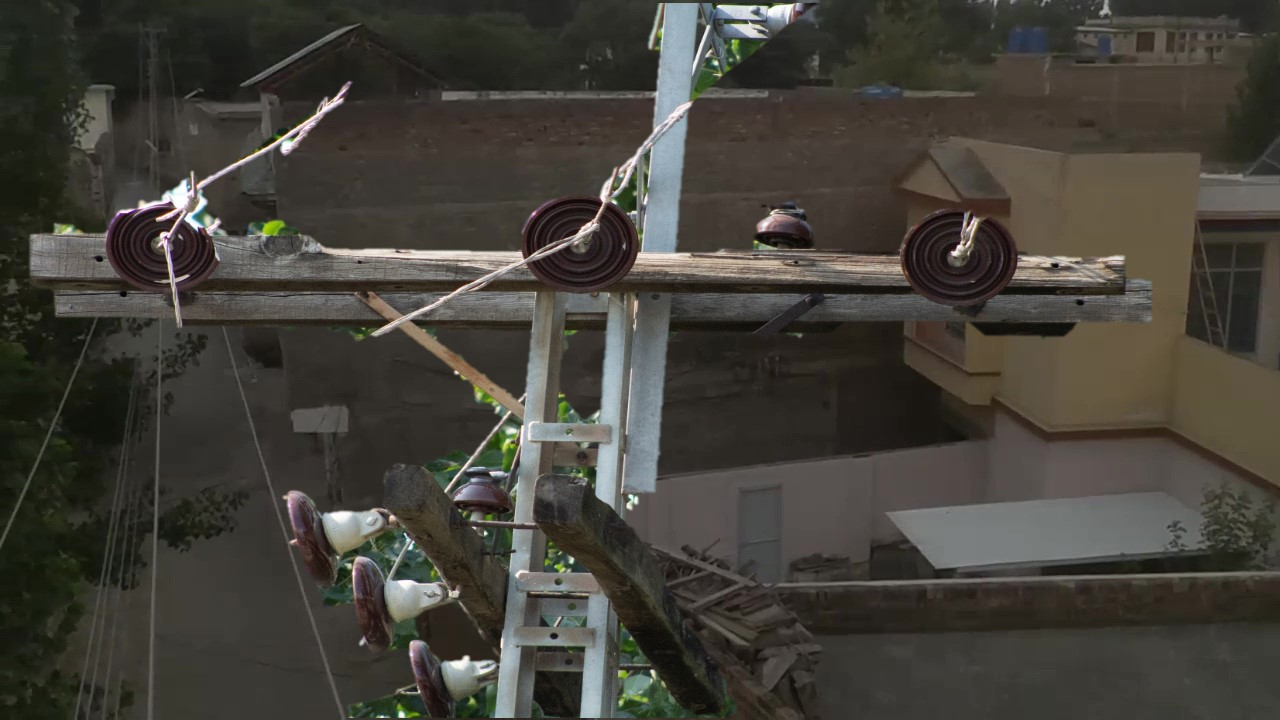defect_disc: (106, 185, 225, 299)
insulator_disc: (895, 199, 1026, 315), (517, 190, 642, 295), (280, 478, 341, 596), (396, 642, 487, 703), (345, 562, 402, 655)
insulator_pin: (745, 195, 821, 254), (450, 456, 516, 522)
